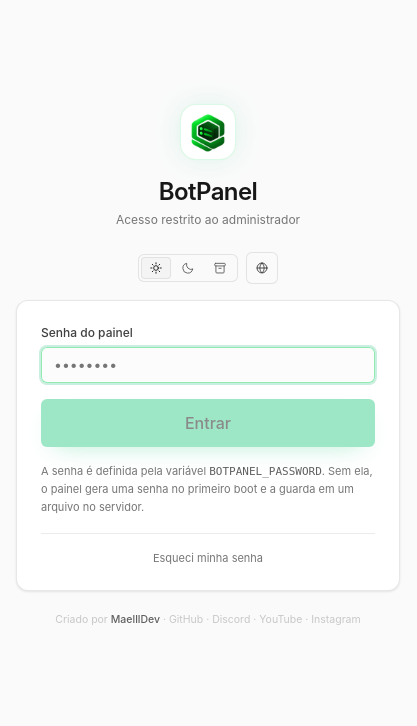
recuperação de senha na tela de login › explica a espera quando o servidor limita os pedidos de token
The width and height of the screenshot is (417, 726).
Click the button "Esqueci minha senha" at {"x": 208, "y": 558}, box [153,550,263,566]
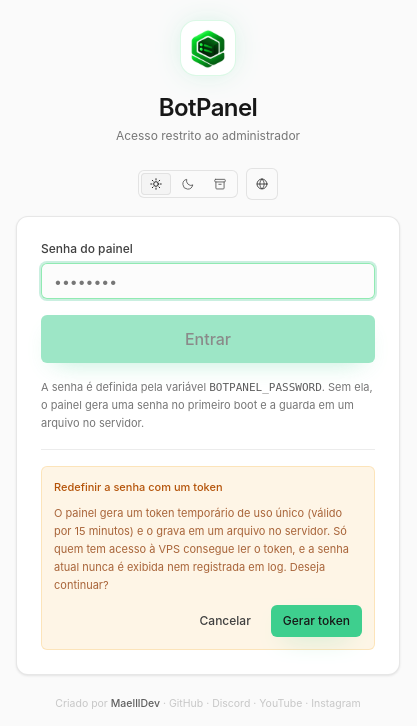
Click the button "Gerar token" at {"x": 316, "y": 621}, box [271,605,362,637]
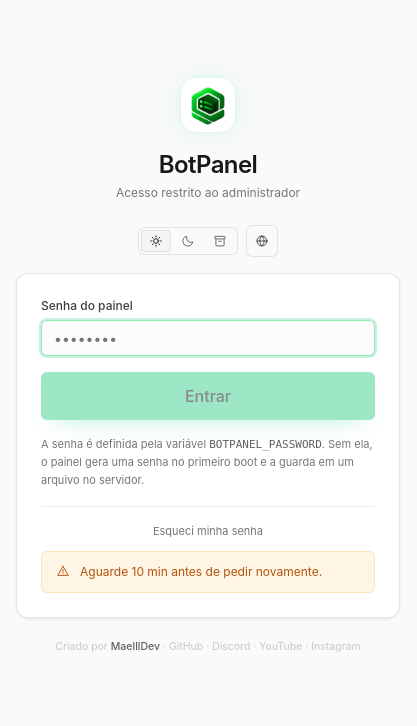
Expected: the text "Aguarde 10 min" is shown, [80,564,322,579]
